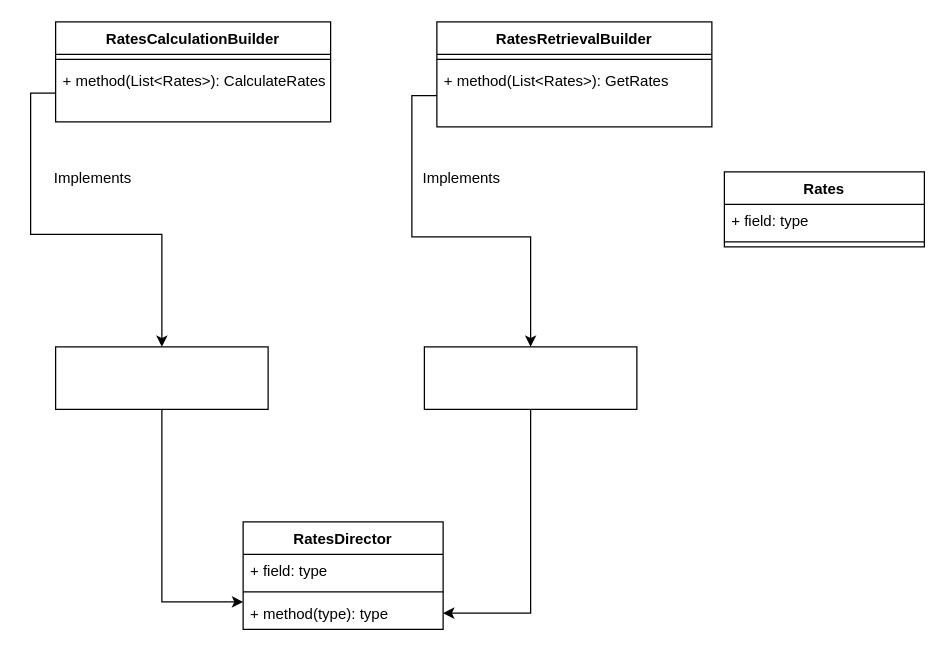
Some shapes in this 946 by 655 pixel diagram are drawn without their labels. The centre of each missing label's shape, as x and y in pixels:
"«interface» IRatesCalculationBuilder" belongs at point 161,377.
"«interface» IRatesRetrivalBuilder" belongs at point 530,377.
